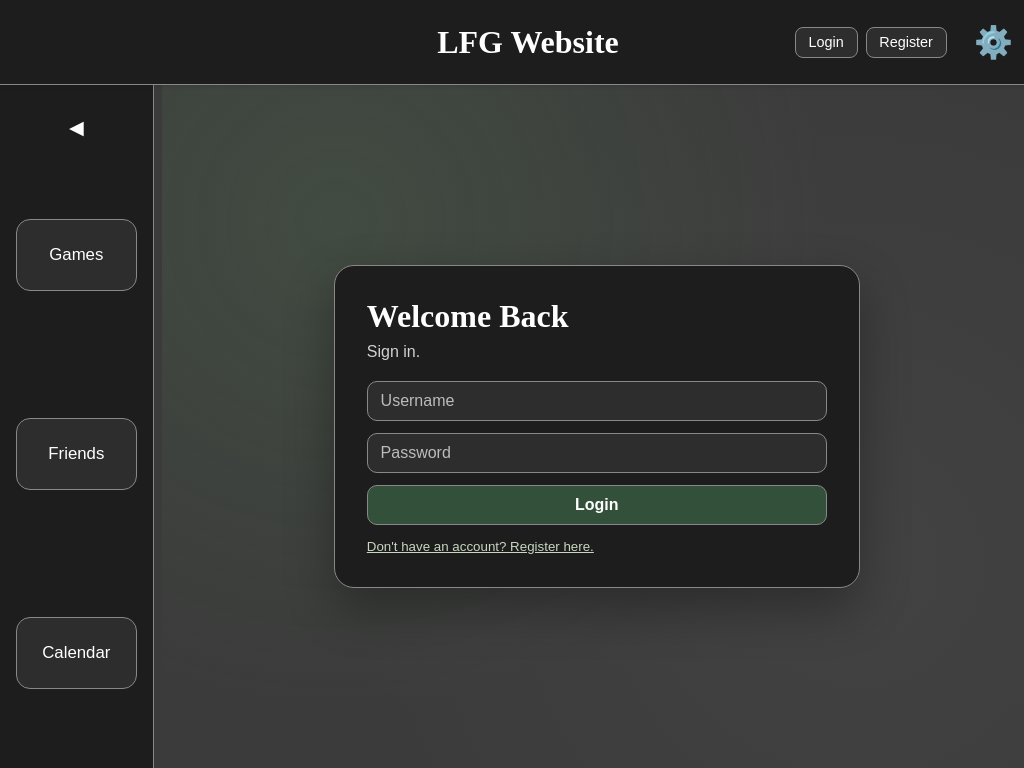
Test: login_page › toggles to register mode
Click the button with class "login-toggle".
click(481, 547)  # box [367, 539, 594, 554]
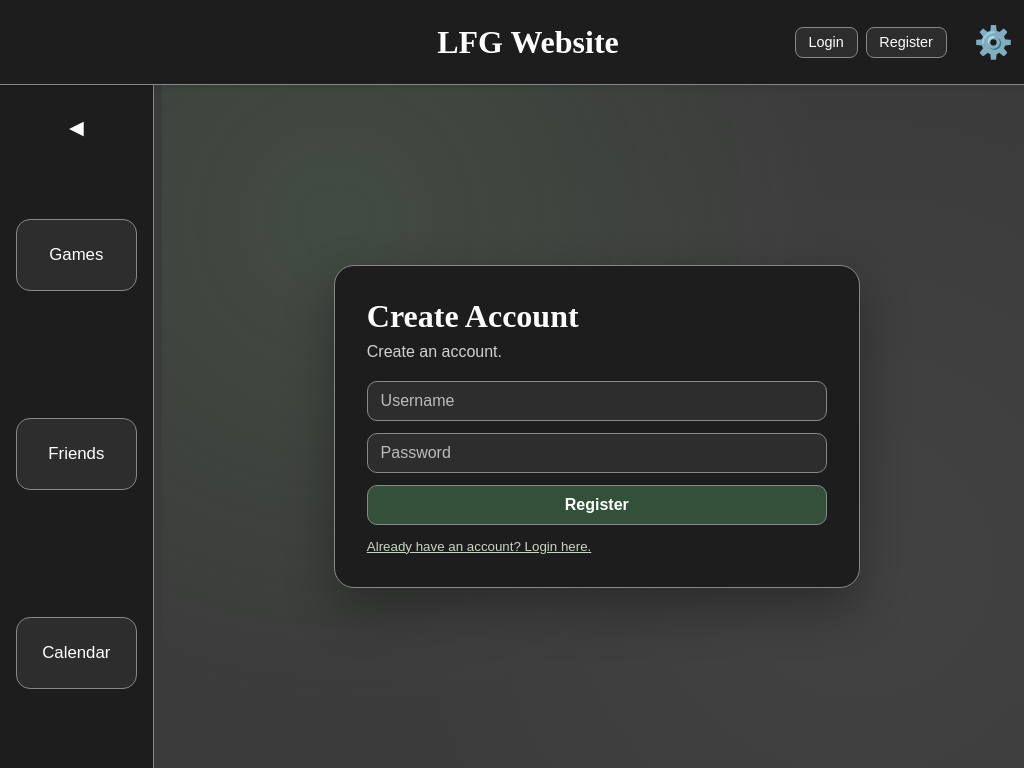
Now the heading "Create Account" is shown, box [367, 298, 579, 334]
Now the button with class "login-submit" reads "Register", box [367, 485, 827, 526]
